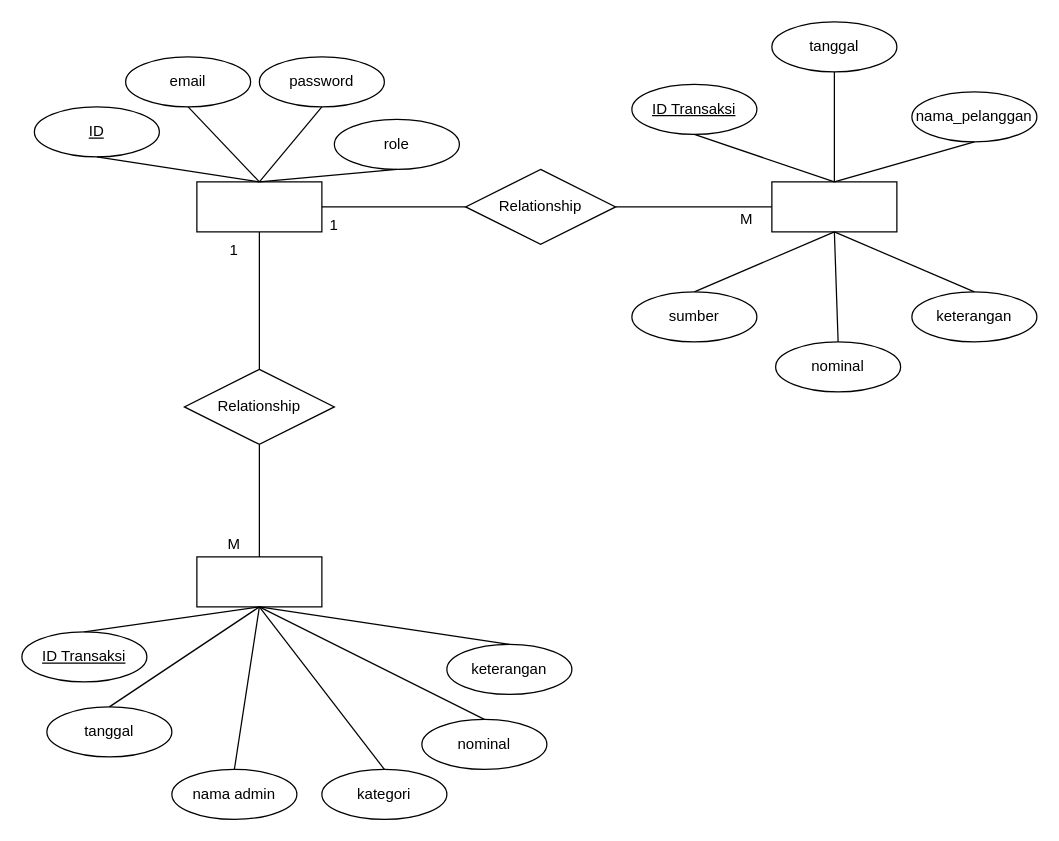
This 1059x841 diagram has some shape labels left out. Each missing label, with the centre of its shape:
Admin: [259,206]
Expense: [259,581]
Income: [834,206]
